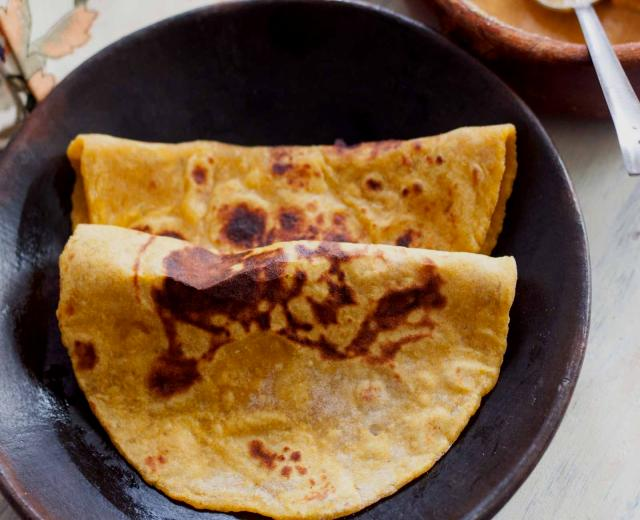chapati: (68, 124, 517, 254)
